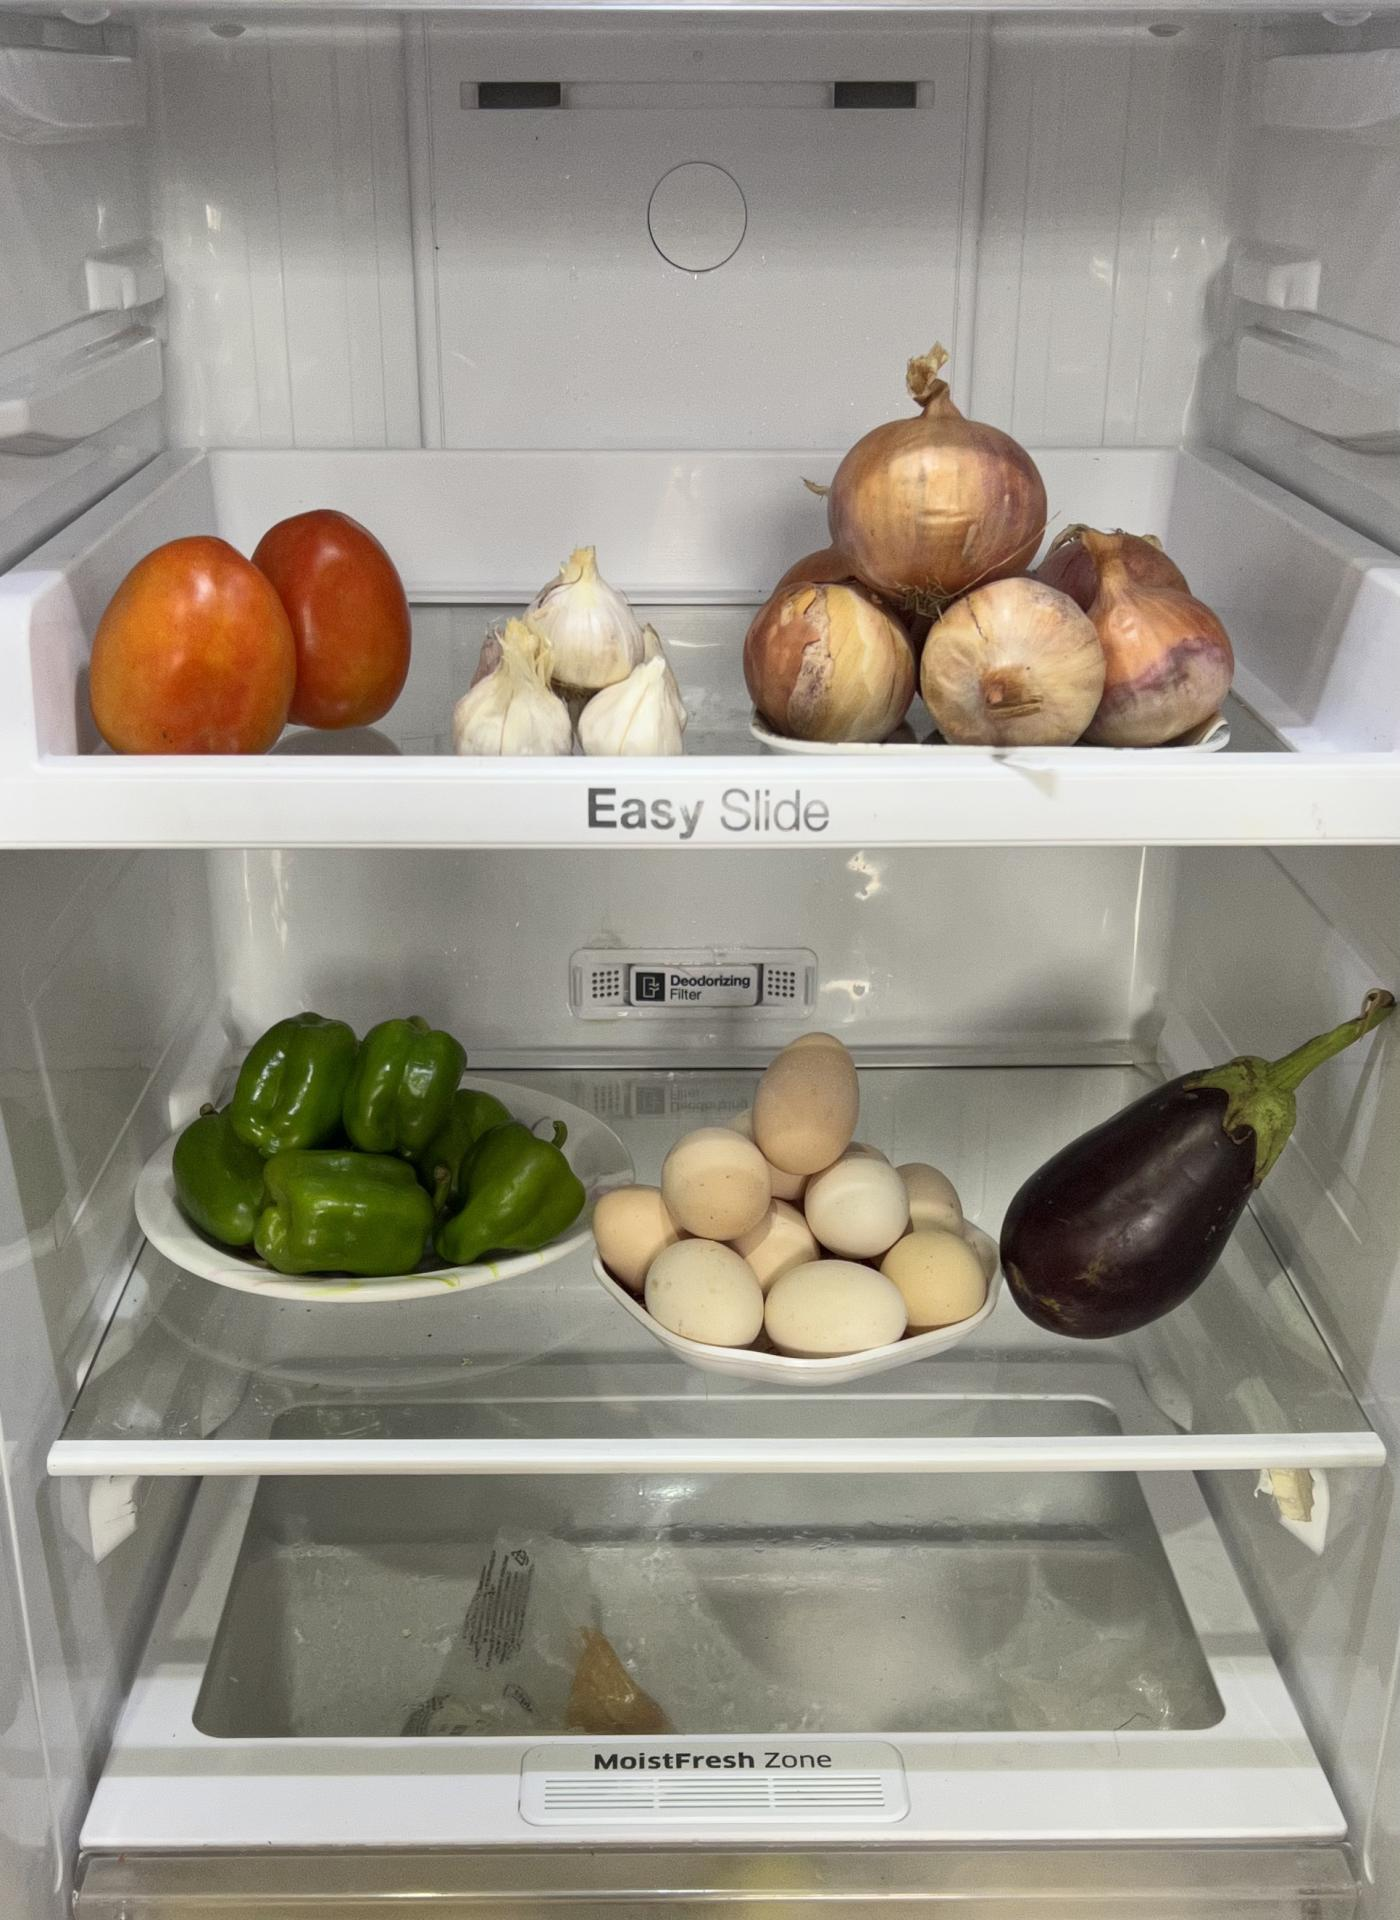capsicum: (168, 1008, 584, 1275)
egg: (607, 1026, 983, 1354)
garlic: (447, 556, 684, 772)
onion: (740, 411, 1275, 745)
tomato: (78, 492, 413, 756)
